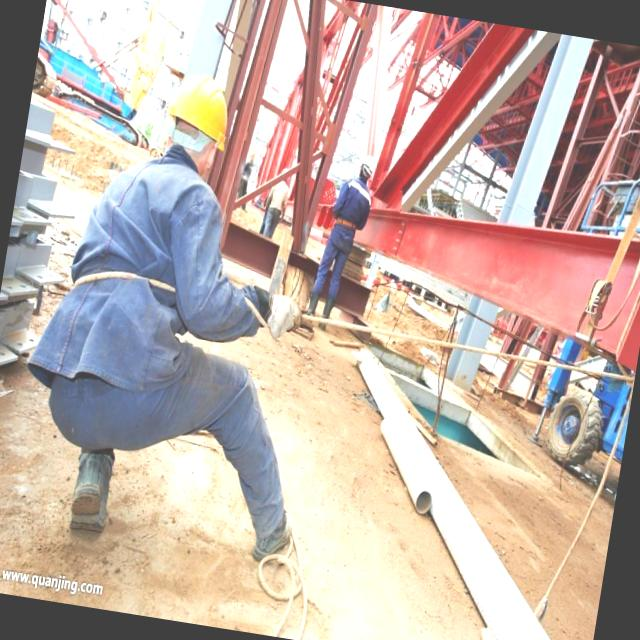helmet: (161, 70, 242, 152)
no-vest: (76, 157, 219, 395)
